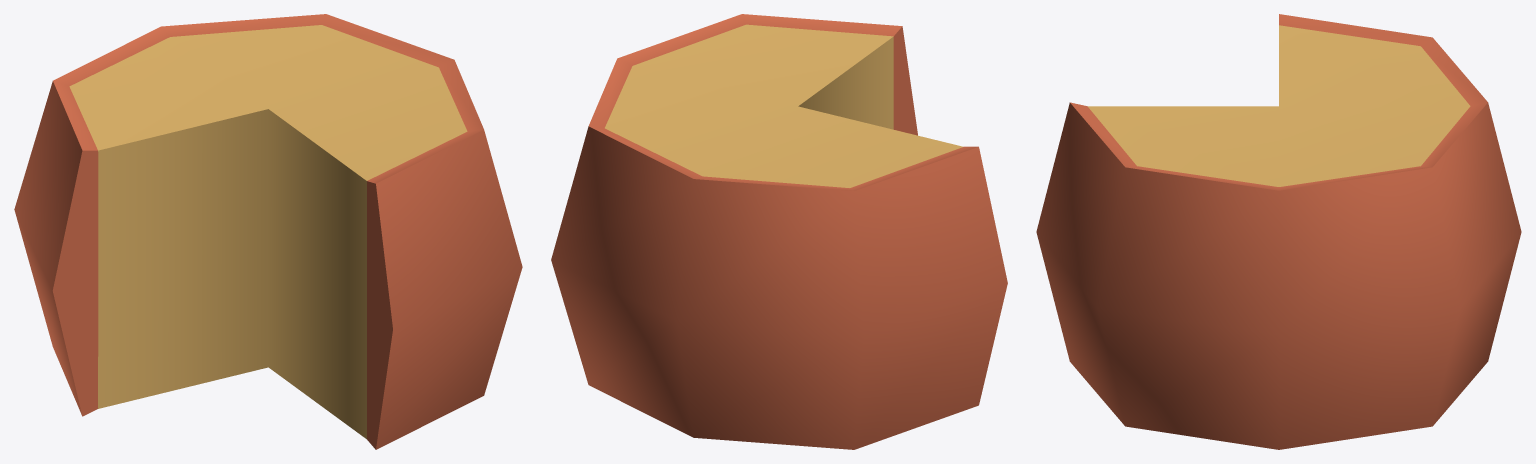
The model's file is cheesewheel.fbx.
The picture shows the model from 3 angles, left to right: view 1: azimuth 30°, elevation 25°; view 2: azimuth 150°, elevation 25°; view 3: azimuth 270°, elevation 25°; orthographic projection. The views are drawn at different scales.
Parts seen in each view (by area): view 1: pCube4; view 2: pCube4; view 3: pCube4.
Boxes of the visible parts, bbox=[...] form: pCube4: bbox=[14, 14, 522, 449]; pCube4: bbox=[551, 14, 1007, 449]; pCube4: bbox=[1036, 14, 1521, 449].
Bounding box in the file's own units: 0.9498 × 0.5599 × 0.9498.
